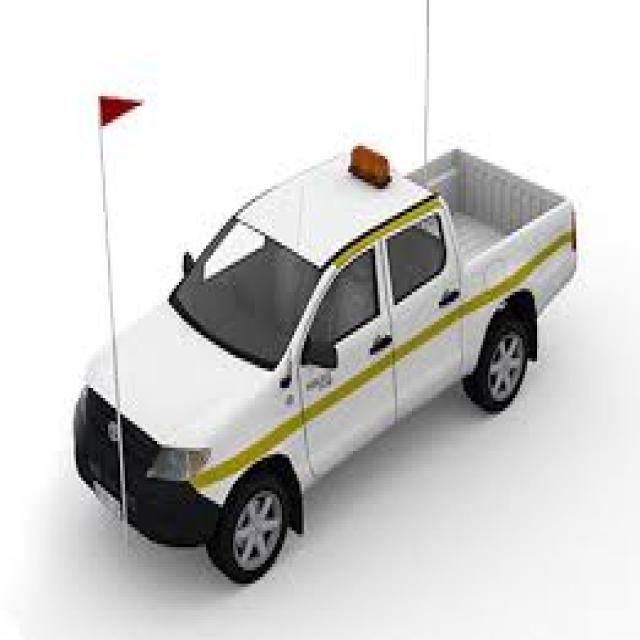light_vehicle: (69, 110, 588, 574)
